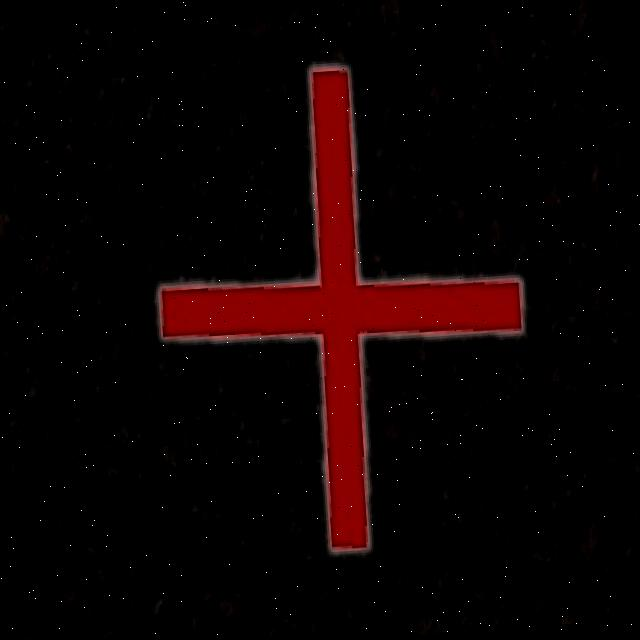x_marker: (144, 54, 536, 558)
